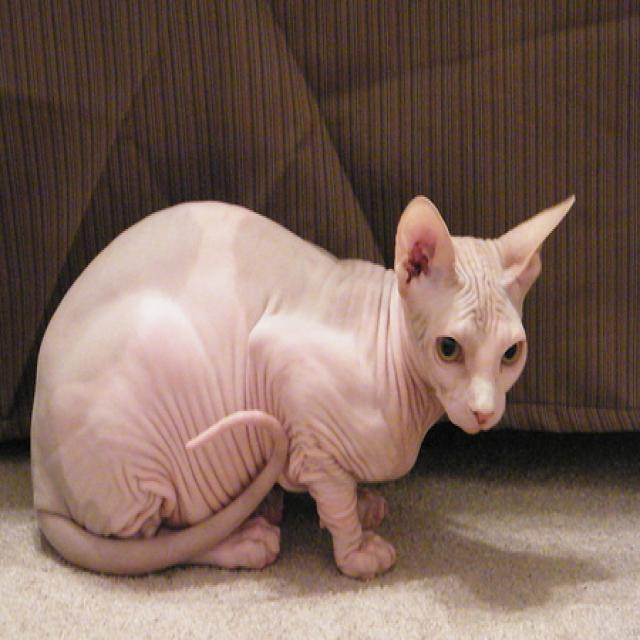Sphynx: (27, 183, 580, 587)
